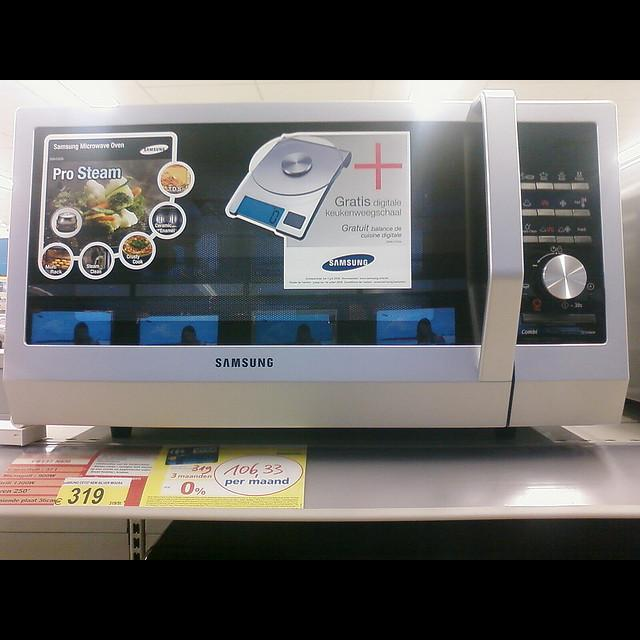Microwave: (0, 91, 632, 440)
